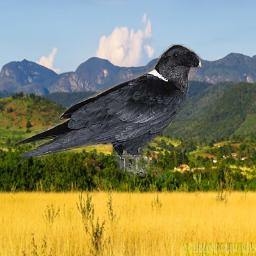Crow: (12, 44, 206, 182)
